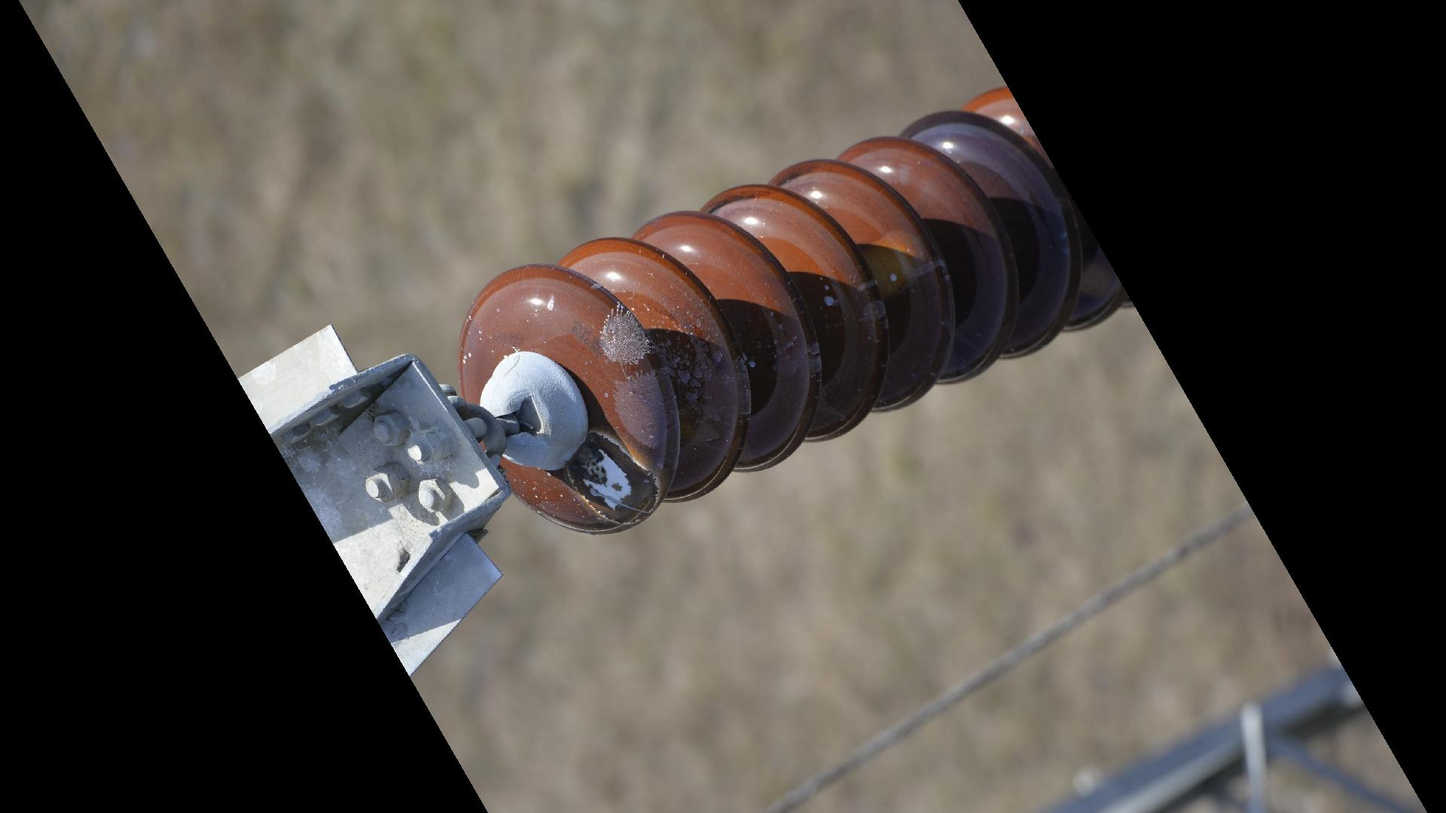insulator: (450, 84, 1130, 543)
insulator_flashover: (555, 428, 664, 530), (856, 226, 934, 300)
